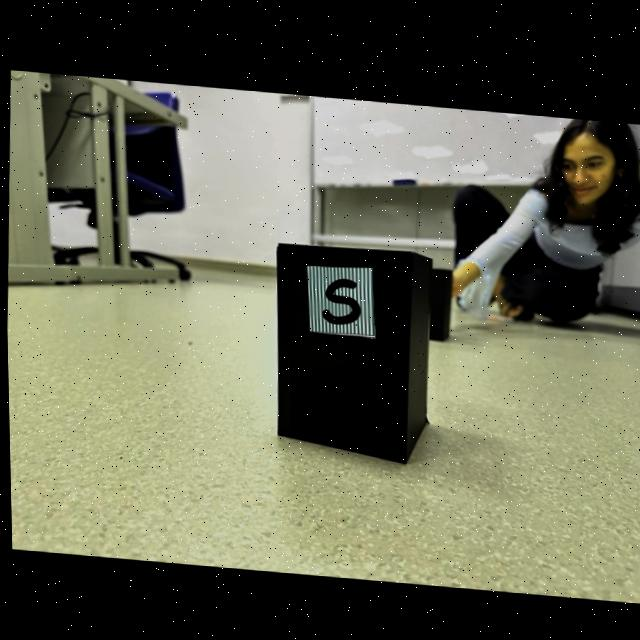S: (321, 274, 358, 319)
